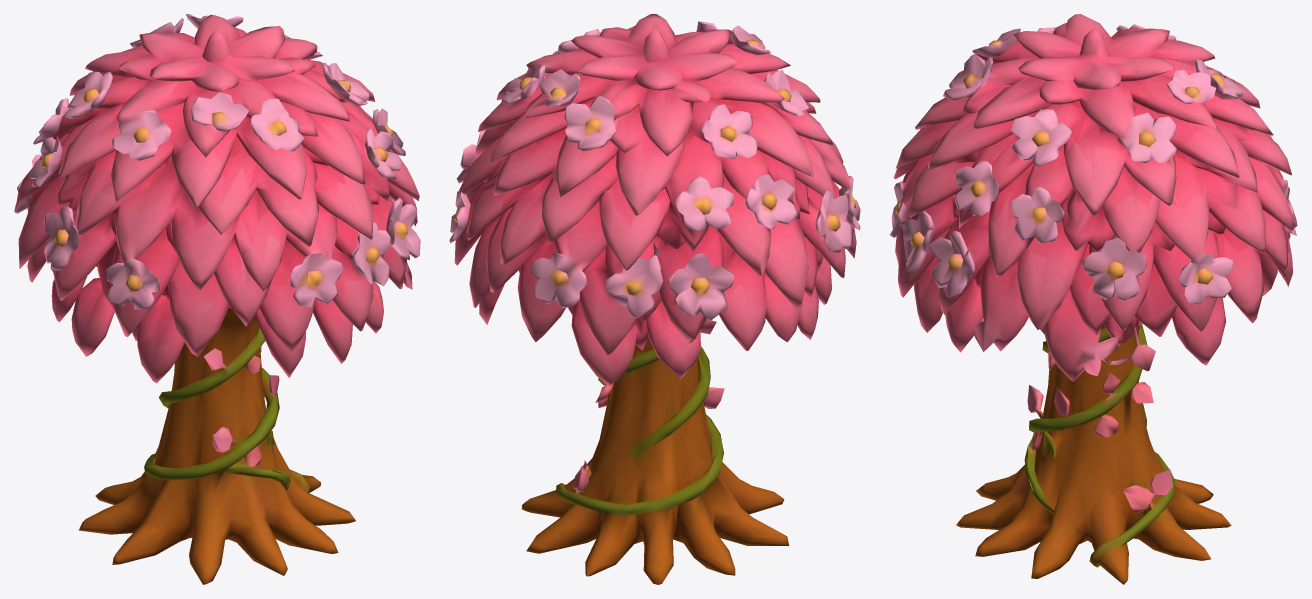
Rendered from tree_blossom.glb.
3 renders of one model, left to right at view 1: azimuth 30°, elevation 25°; view 2: azimuth 150°, elevation 25°; view 3: azimuth 270°, elevation 25°, orthographic.
Parts seen in each view (by area): view 1: tripo_node_3f29fced-2bee-4521-aa4e-dfefd505a416; view 2: tripo_node_3f29fced-2bee-4521-aa4e-dfefd505a416; view 3: tripo_node_3f29fced-2bee-4521-aa4e-dfefd505a416.
Part boxes in pixels (x1,y1,x2,y2): tripo_node_3f29fced-2bee-4521-aa4e-dfefd505a416: [14, 14, 420, 584]; tripo_node_3f29fced-2bee-4521-aa4e-dfefd505a416: [449, 14, 860, 584]; tripo_node_3f29fced-2bee-4521-aa4e-dfefd505a416: [890, 14, 1297, 584].
Size of the model in its own units: 3.38 by 4.51 by 3.32.
Materials: 1 (1 with a texture image).
